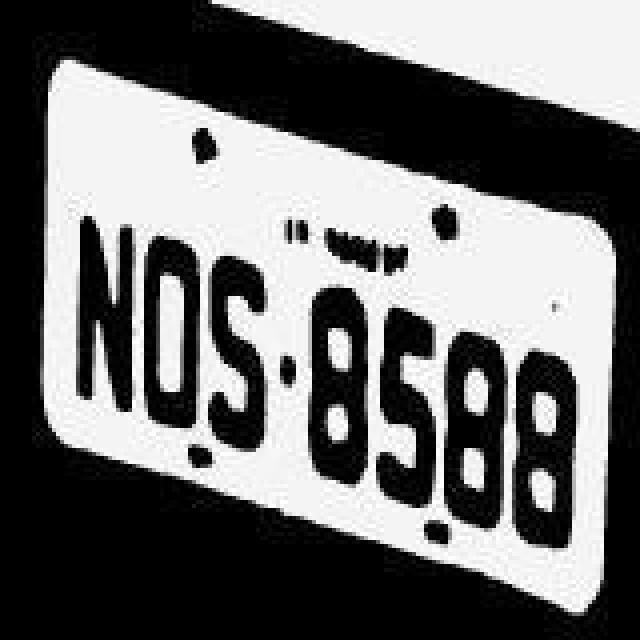5: (372, 282, 444, 518)
8: (510, 322, 578, 574), (298, 274, 374, 494), (440, 302, 512, 530)
N: (54, 190, 138, 418)
O: (132, 220, 204, 436)
S: (200, 240, 280, 456)
